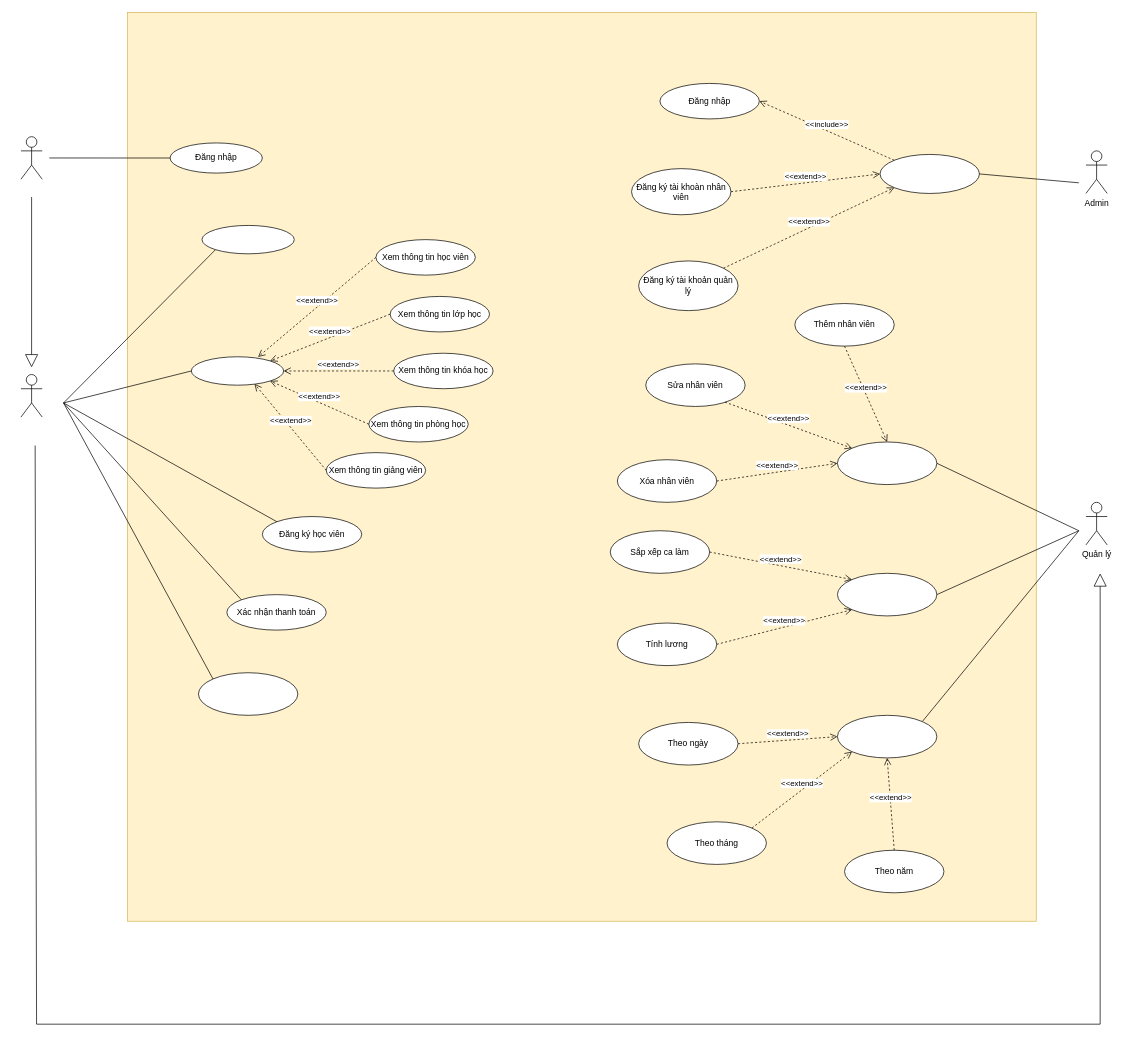
The diagram is 1125 pixels wide and 1049 high, and some of its shapes have lost their labels. The centre of each missing label's shape, as x and y in pixels:
Actor: the point at 31,157
Cập nhật nhân viên: the point at 887,463
Nhân viên: the point at 31,395
Thao tác nhân viên: the point at 887,594
Thống kê doanh thu: the point at 887,736
Xem chi tiết giao dịch: the point at 248,693
Xem thông tin: the point at 237,370
Đăng ký tài khoản: the point at 929,173
Đổi mật khẩu: the point at 247,239
